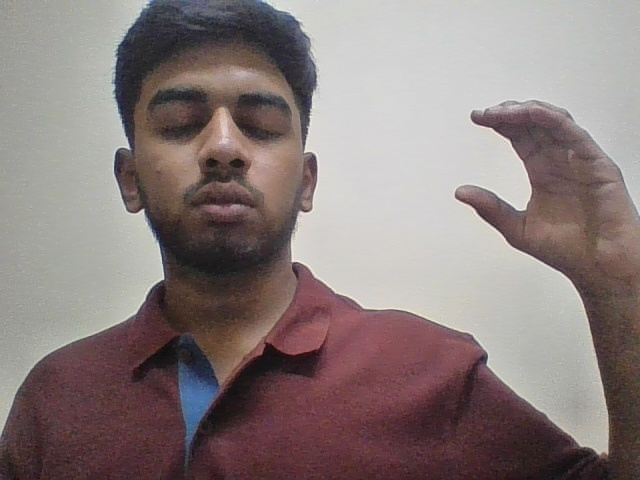C: (437, 68, 640, 287)
